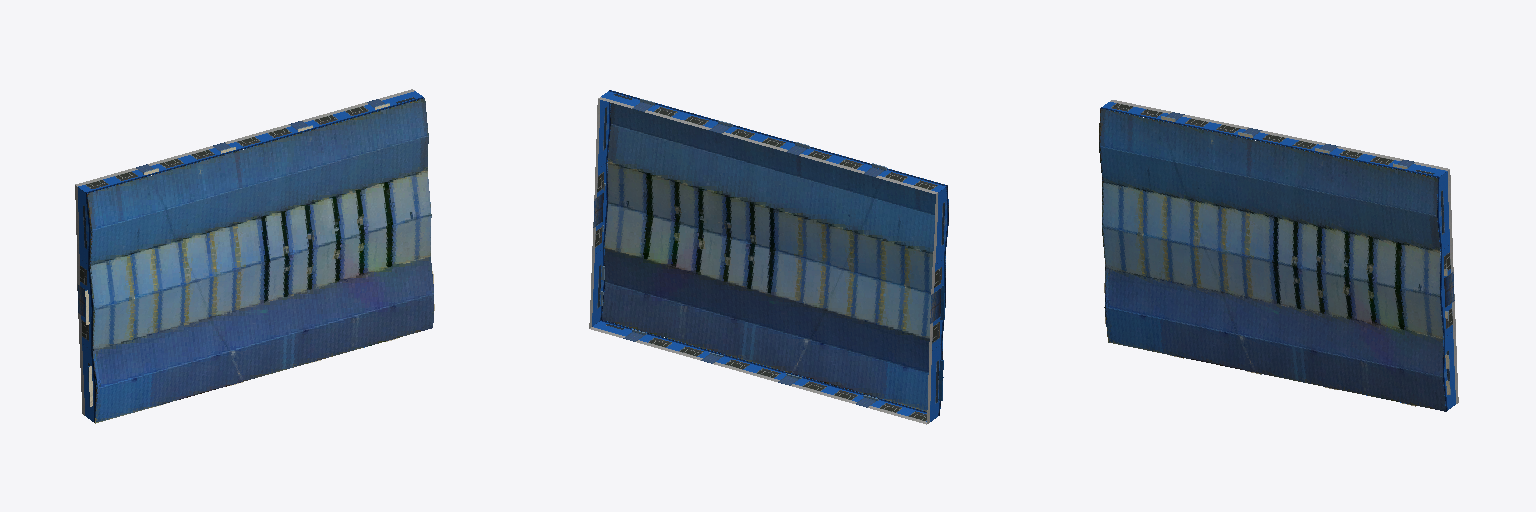
3 views of the same model, side by side, from view 1: azimuth 30°, elevation 25°; view 2: azimuth 150°, elevation 25°; view 3: azimuth 330°, elevation 25° (orthographic).
Parts seen in each view (by area): view 1: Group_MatrixTransform_i96150_Geometry_8, Group_MatrixTransform_i96150_Geometry_7, Group_MatrixTransform_i96150_Geometry_3, Group_MatrixTransform_i96150_Geometry_6, Group_MatrixTransform_i96150_Geometry_1, Group_MatrixTransform_i96150_Geometry_2; view 2: Group_MatrixTransform_i96150_Geometry_8, Group_MatrixTransform_i96150_Geometry_7, Group_MatrixTransform_i96150_Geometry_3, Group_MatrixTransform_i96150_Geometry_6, Group_MatrixTransform_i96150_Geometry_1, Group_MatrixTransform_i96150_Geometry_2, Group_MatrixTransform_i96150_Geometry_0; view 3: Group_MatrixTransform_i96150_Geometry_8, Group_MatrixTransform_i96150_Geometry_7, Group_MatrixTransform_i96150_Geometry_3, Group_MatrixTransform_i96150_Geometry_1, Group_MatrixTransform_i96150_Geometry_2.
Part boxes in pixels (bbox=[...]): Group_MatrixTransform_i96150_Geometry_8: bbox=[87, 98, 433, 423]; Group_MatrixTransform_i96150_Geometry_7: bbox=[75, 103, 376, 347]; Group_MatrixTransform_i96150_Geometry_3: bbox=[75, 185, 95, 422]; Group_MatrixTransform_i96150_Geometry_6: bbox=[134, 99, 391, 176]; Group_MatrixTransform_i96150_Geometry_1: bbox=[77, 257, 92, 308]; Group_MatrixTransform_i96150_Geometry_2: bbox=[78, 299, 93, 350]; Group_MatrixTransform_i96150_Geometry_8: bbox=[602, 103, 935, 411]; Group_MatrixTransform_i96150_Geometry_7: bbox=[637, 104, 947, 424]; Group_MatrixTransform_i96150_Geometry_3: bbox=[589, 99, 948, 423]; Group_MatrixTransform_i96150_Geometry_6: bbox=[623, 102, 887, 407]; Group_MatrixTransform_i96150_Geometry_1: bbox=[592, 204, 945, 308]; Group_MatrixTransform_i96150_Geometry_2: bbox=[594, 163, 945, 351]; Group_MatrixTransform_i96150_Geometry_0: bbox=[590, 90, 639, 337]; Group_MatrixTransform_i96150_Geometry_8: bbox=[1099, 109, 1445, 411]; Group_MatrixTransform_i96150_Geometry_7: bbox=[1100, 100, 1401, 395]; Group_MatrixTransform_i96150_Geometry_3: bbox=[1437, 170, 1458, 411]; Group_MatrixTransform_i96150_Geometry_1: bbox=[1440, 286, 1455, 337]; Group_MatrixTransform_i96150_Geometry_2: bbox=[1440, 243, 1453, 295].
Bounding box in the file's own units: 84.1 × 56.72 × 6.62.
Materials: 10 (10 with a texture image).